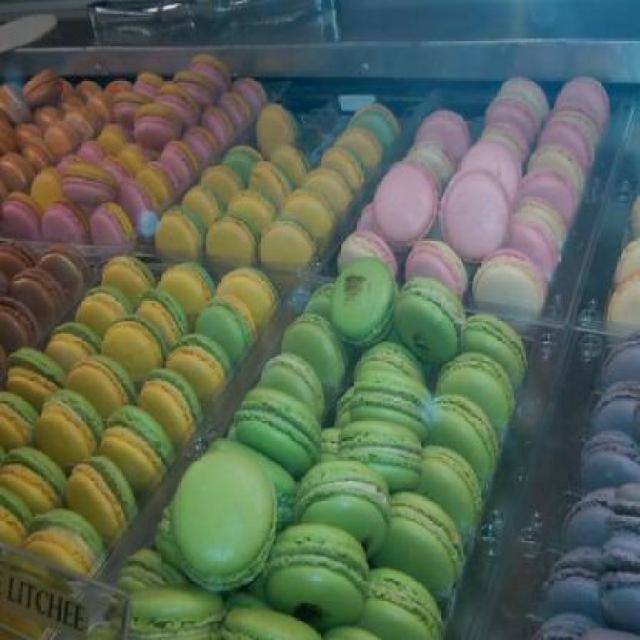Macaron: (1, 49, 640, 638)
